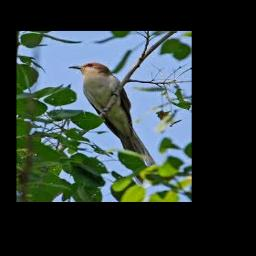Cuckoo: (68, 62, 155, 184)
